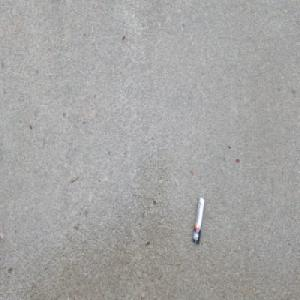Battery: (190, 195, 204, 246)
